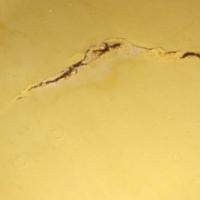crack: (22, 25, 199, 116)
